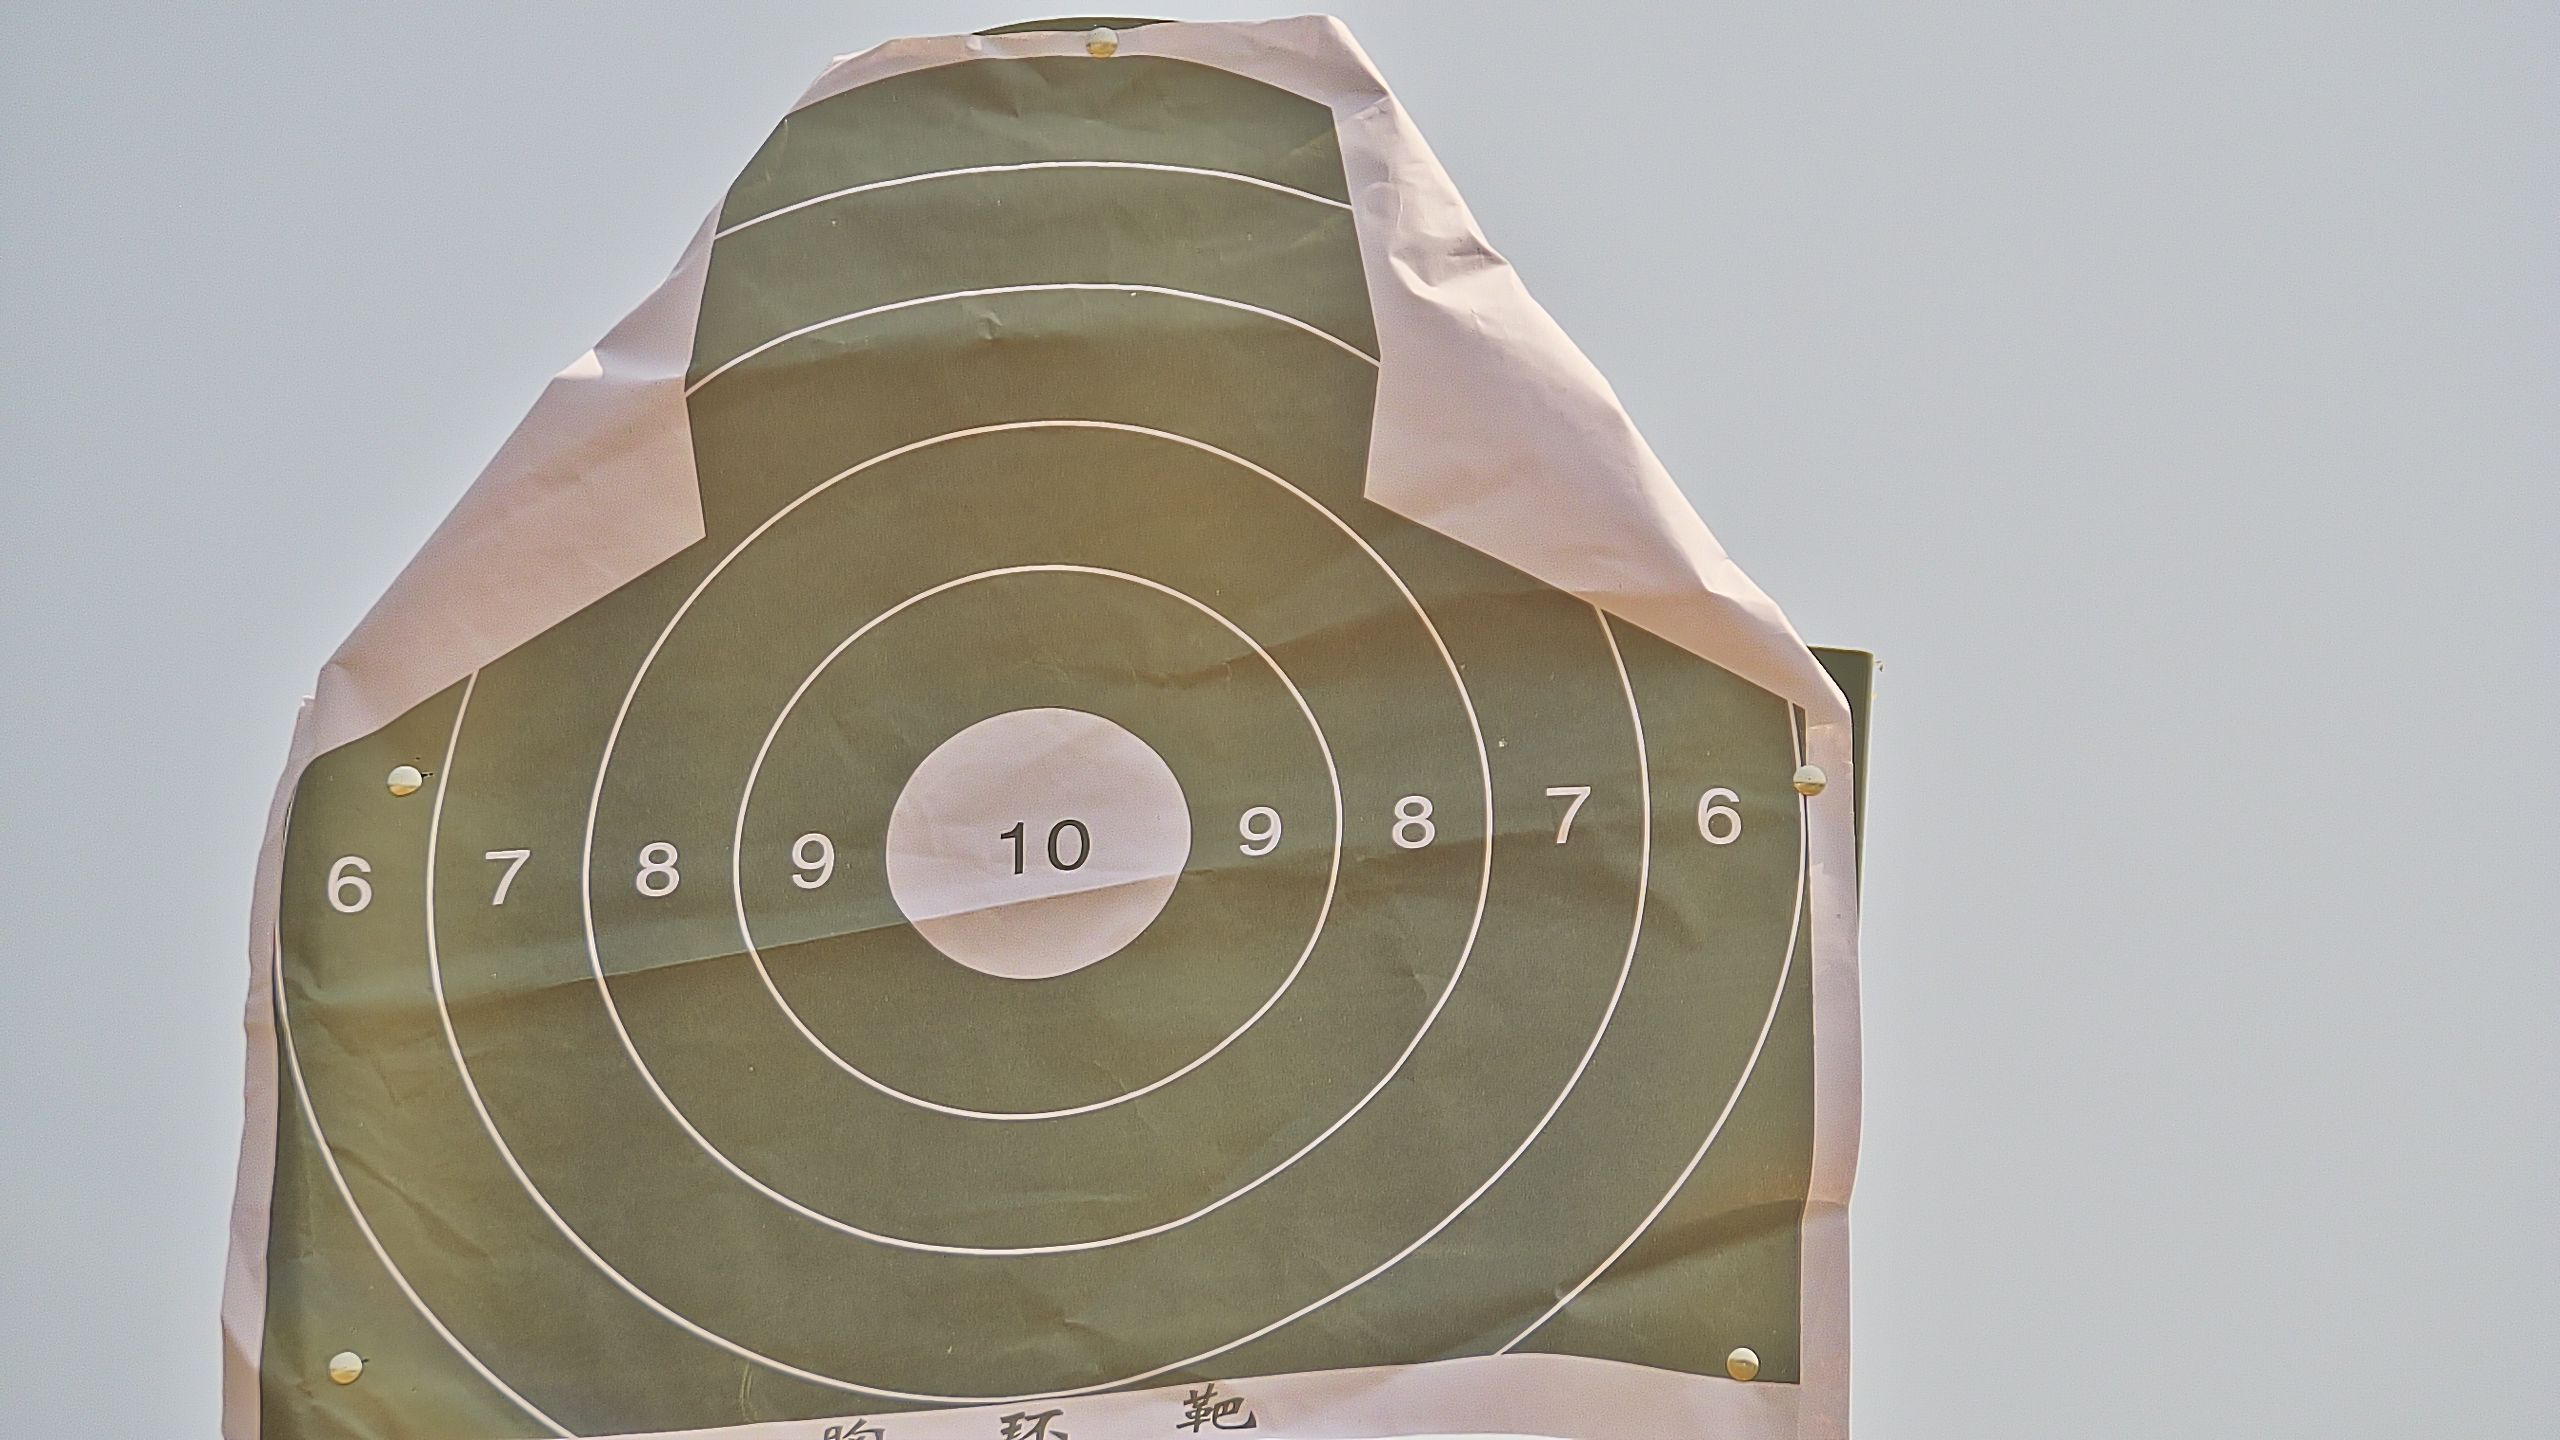kernel: (1034, 849, 1039, 851)
target: (253, 56, 1816, 1440)
ten: (881, 707, 1197, 978)
